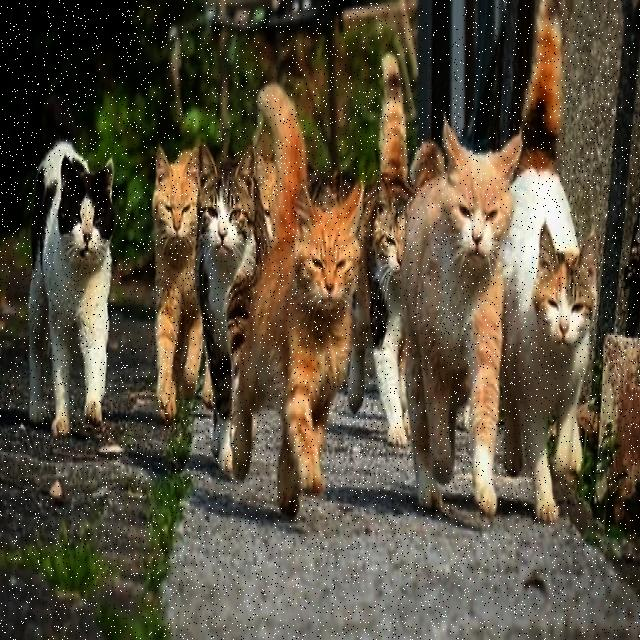cat: (232, 84, 364, 517), (502, 0, 598, 522), (402, 120, 522, 516), (29, 96, 114, 437), (348, 53, 411, 447), (195, 144, 269, 472), (152, 147, 202, 424), (256, 153, 276, 241), (308, 171, 355, 208)
